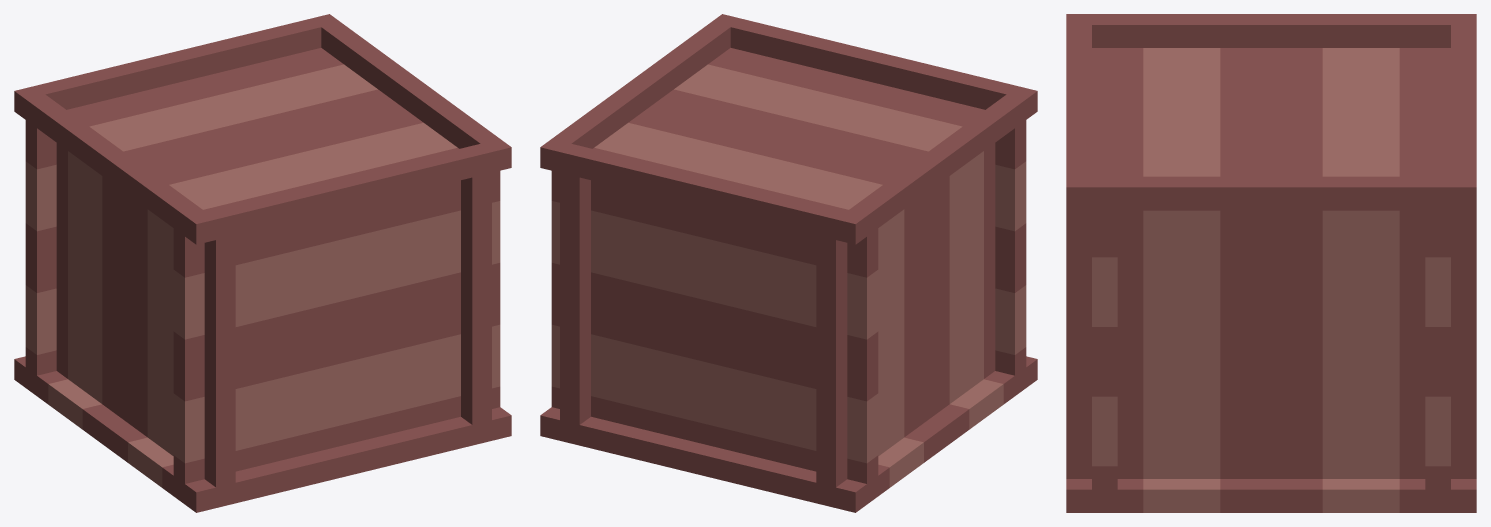
The model's file is boxpad.obj.
The picture shows the model from 3 angles, left to right: view 1: azimuth 30°, elevation 25°; view 2: azimuth 150°, elevation 25°; view 3: azimuth 270°, elevation 25°; orthographic projection. The views are drawn at different scales.
Bounding box in the file's own units: 16 × 14 × 16.
1 material, 1 textured.
